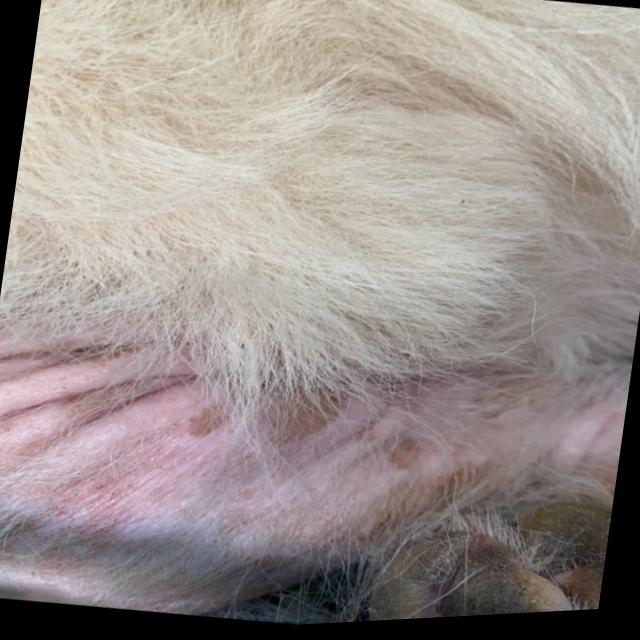demodicosis: (4, 353, 566, 570)
